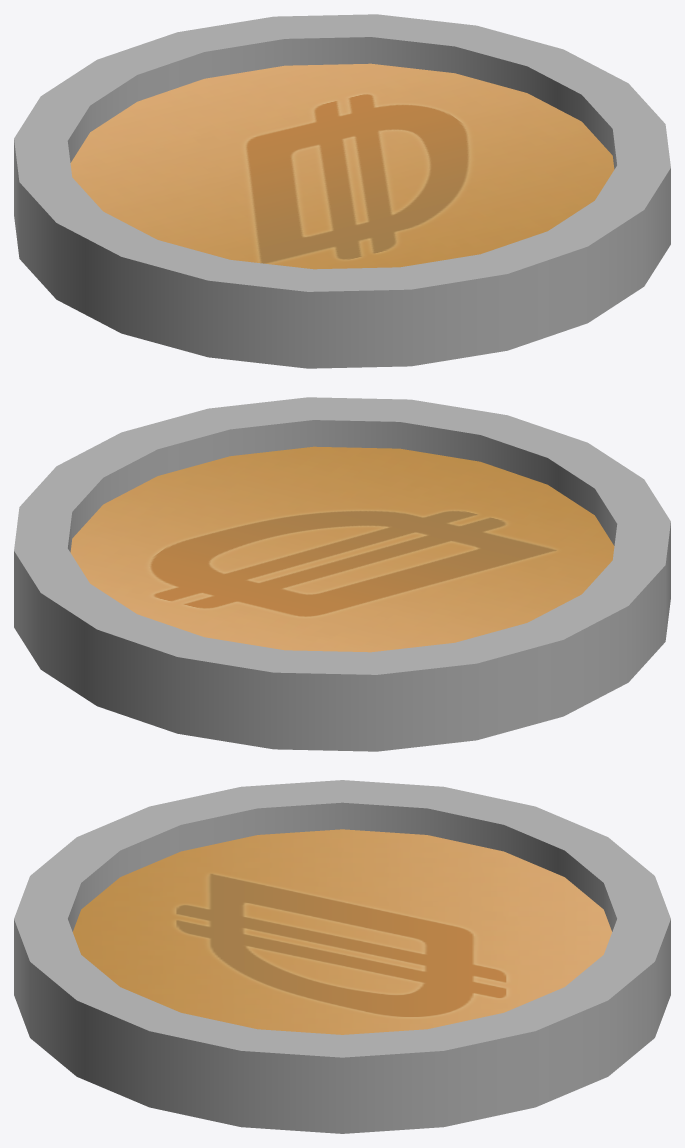
File: Coin.fbx
3 views of the same model, one above another, from view 1: azimuth 30°, elevation 25°; view 2: azimuth 150°, elevation 25°; view 3: azimuth 270°, elevation 25° (orthographic).
Visible parts, largest first — view 1: Coin3; view 2: Coin3; view 3: Coin3.
Part boxes in pixels (<box>): Coin3: <box>14,14,670,368</box>; Coin3: <box>14,397,670,751</box>; Coin3: <box>14,780,670,1133</box>.
Size of the model in its own units: 0.0455 by 0.00583 by 0.0455.
